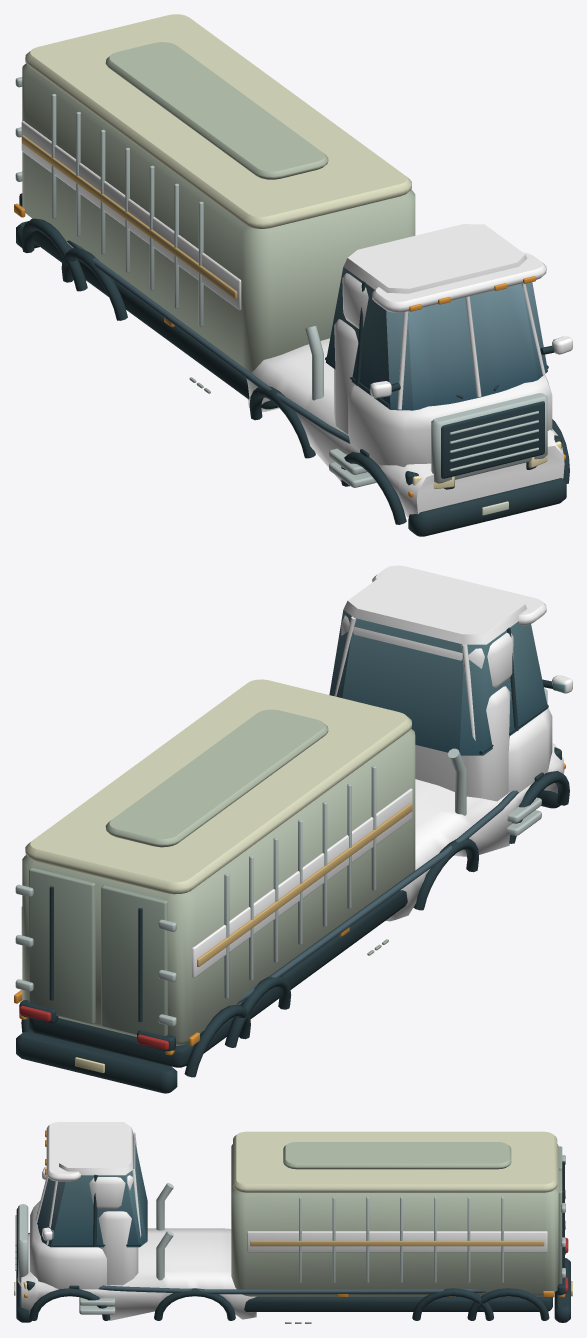
The model's file is cargo.glb.
3 renders of one model, top to bottom at view 1: azimuth 30°, elevation 25°; view 2: azimuth 150°, elevation 25°; view 3: azimuth 270°, elevation 25°, orthographic. The views are drawn at different scales.
Visible parts, largest first — view 1: Chassis; view 2: Chassis, BrakeLamps; view 3: Chassis.
Boxes of the visible parts, left/top/right/bottom form: Chassis: left=14, top=14, right=572, bottom=536; Chassis: left=14, top=565, right=572, bottom=1093; BrakeLamps: left=19, top=1005, right=168, bottom=1050; Chassis: left=14, top=1122, right=572, bottom=1323.
Bounding box in the file's own units: 2.21 × 2.36 × 7.79.
